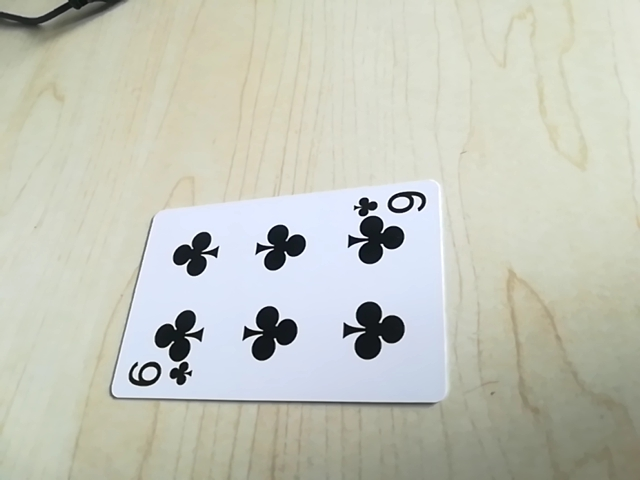mh 6: (119, 360, 190, 394), (354, 189, 429, 220)
